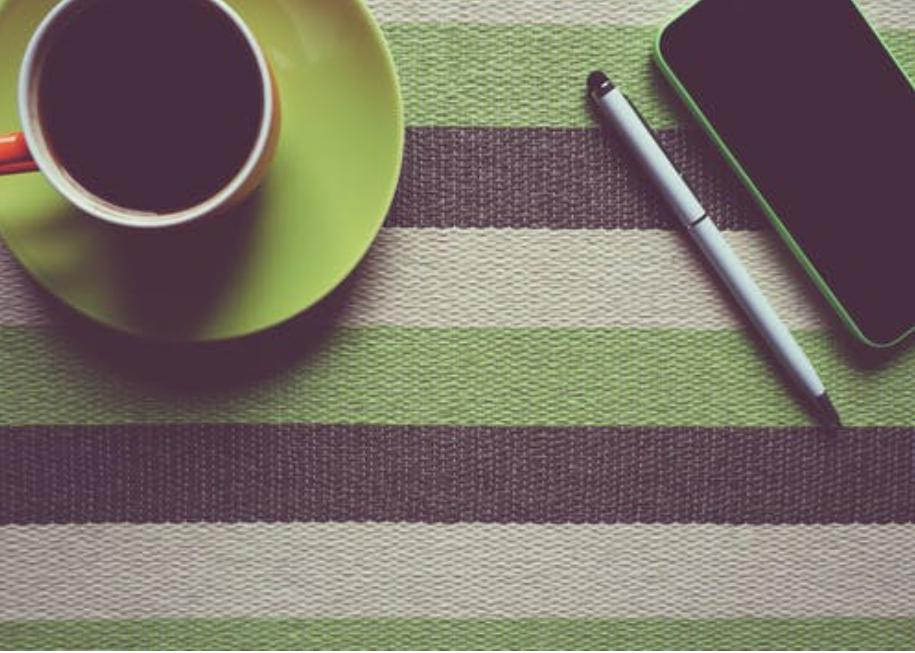mobile: (654, 1, 915, 349)
